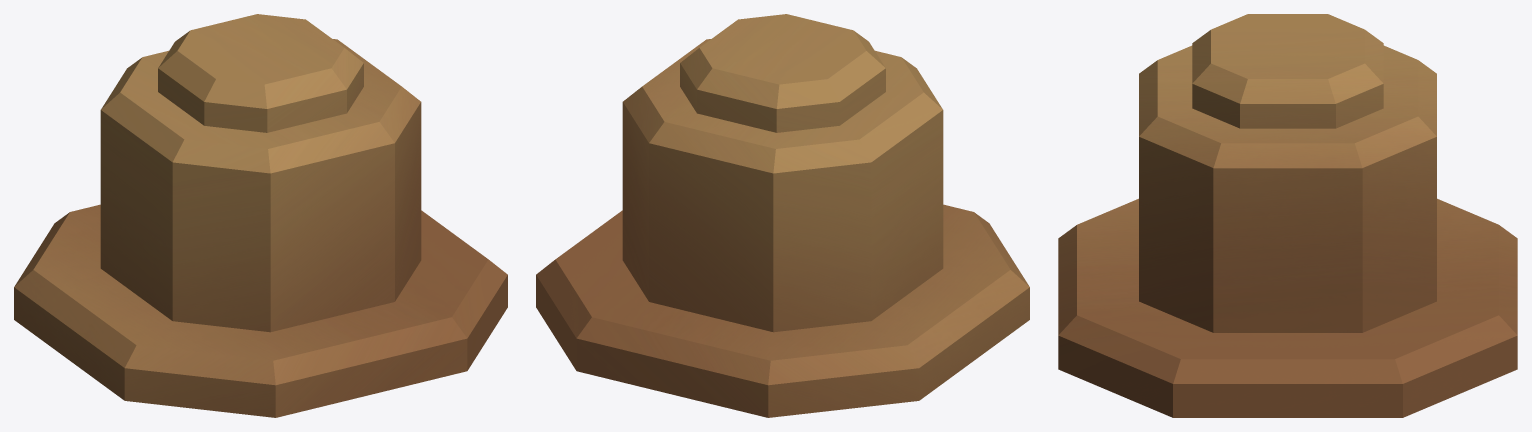
File: pedestal.fbx
The picture shows the model from 3 angles, left to right: view 1: azimuth 30°, elevation 25°; view 2: azimuth 150°, elevation 25°; view 3: azimuth 270°, elevation 25°; orthographic projection. The views are drawn at different scales.
Visible parts, largest first — view 1: treasure_pedestal; view 2: treasure_pedestal; view 3: treasure_pedestal.
Boxes of the visible parts, bbox=[...] form: treasure_pedestal: bbox=[14, 14, 507, 417]; treasure_pedestal: bbox=[536, 14, 1029, 417]; treasure_pedestal: bbox=[1058, 14, 1517, 417].
Size of the model in its own units: 98760 by 65096 by 98760.
1 material, 1 textured.
